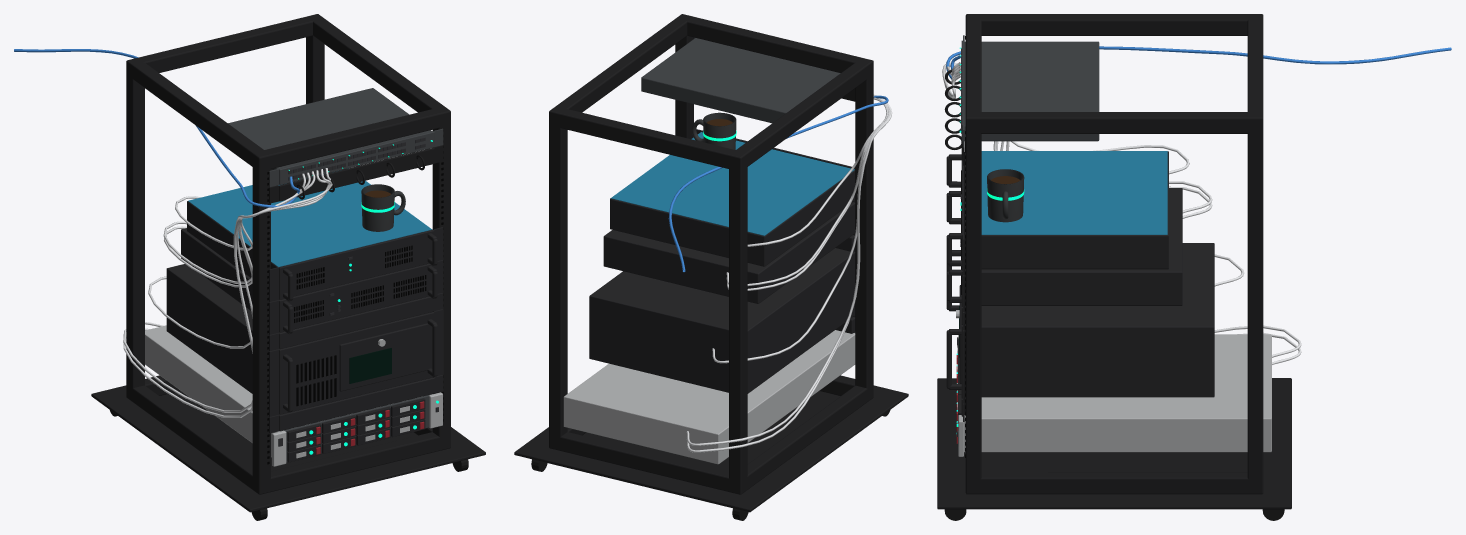
Rendered from homelab-rack.glb.
3 views of the same model, side by side, from view 1: azimuth 30°, elevation 25°; view 2: azimuth 150°, elevation 25°; view 3: azimuth 270°, elevation 25° (orthographic). The views are drawn at different scales.
Visible parts, largest first — view 1: frame, pve2, lab, truenas, switch, pve1, blanks, cablemgr, mug, Cable_truenasb, Cable_truenas, Cable_uplink_router (+3 smaller); view 2: frame, pve2, lab, truenas, switch, pve1, mug, Cable_truenasb, Cable_truenas, Cable_uplink_router, Cable_pve2, Cable_pve1 (+2 smaller); view 3: frame, pve2, lab, truenas, switch, pve1, mug, Cable_uplink_router, cablemgr.
Part boxes in pixels (left/top/right/bottom): frame: left=91, top=14, right=485, bottom=520; pve2: left=166, top=264, right=443, bottom=416; lab: left=187, top=180, right=443, bottom=301; truenas: left=145, top=325, right=442, bottom=466; switch: left=228, top=88, right=443, bottom=186; pve1: left=181, top=228, right=443, bottom=334; blanks: left=269, top=293, right=443, bottom=433; cablemgr: left=269, top=145, right=443, bottom=203; mug: left=361, top=184, right=405, bottom=231; Cable_truenasb: left=123, top=168, right=332, bottom=417; Cable_truenas: left=123, top=169, right=331, bottom=412; Cable_uplink_router: left=14, top=49, right=299, bottom=207; frame: left=514, top=14, right=908, bottom=520; pve2: left=589, top=248, right=855, bottom=393; lab: left=610, top=129, right=855, bottom=266; truenas: left=563, top=330, right=855, bottom=464; switch: left=641, top=37, right=840, bottom=123; pve1: left=603, top=201, right=855, bottom=303; mug: left=692, top=112, right=736, bottom=149; Cable_truenasb: left=686, top=94, right=891, bottom=452; Cable_truenas: left=686, top=105, right=890, bottom=445; Cable_uplink_router: left=668, top=95, right=888, bottom=271; Cable_pve2: left=712, top=107, right=889, bottom=363; Cable_pve1: left=726, top=97, right=887, bottom=286; frame: left=937, top=14, right=1291, bottom=520; pve2: left=946, top=243, right=1214, bottom=403; lab: left=946, top=151, right=1168, bottom=275; truenas: left=956, top=334, right=1271, bottom=456; switch: left=961, top=35, right=1099, bottom=147; pve1: left=946, top=186, right=1182, bottom=311; mug: left=987, top=169, right=1024, bottom=222; Cable_uplink_router: left=946, top=46, right=1451, bottom=79; cablemgr: left=944, top=69, right=964, bottom=165.
Size of the model in its own units: 0.6874 by 0.9683 by 1.13.
